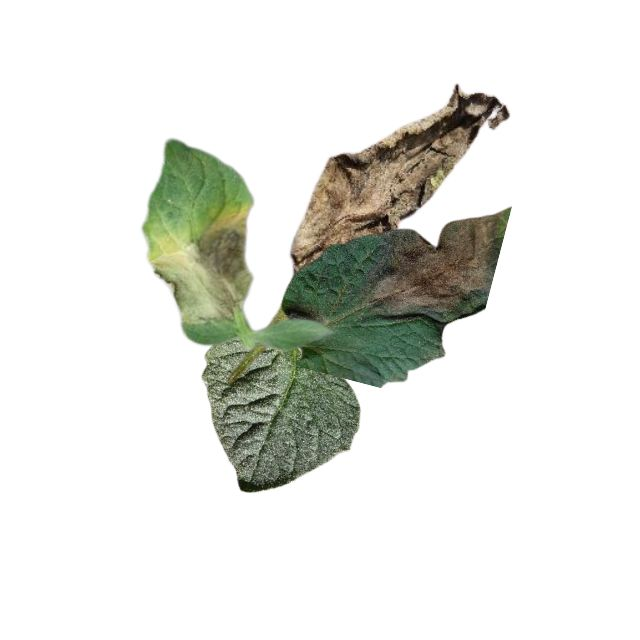Late_blight: (290, 84, 510, 272), (363, 211, 504, 322), (148, 214, 253, 326)
